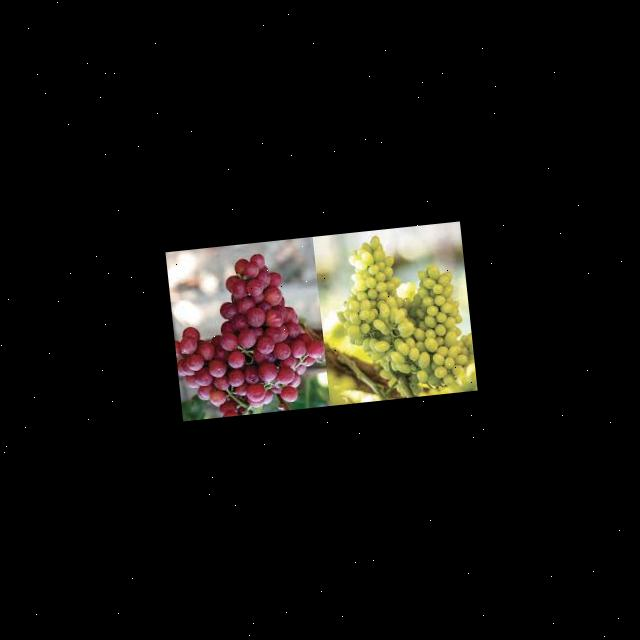grape: (166, 247, 330, 420), (328, 226, 476, 403)
